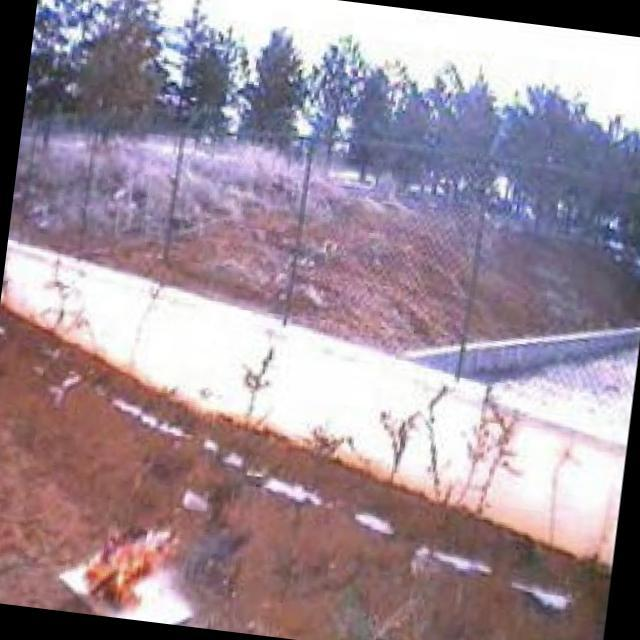Fire: (80, 531, 176, 619)
